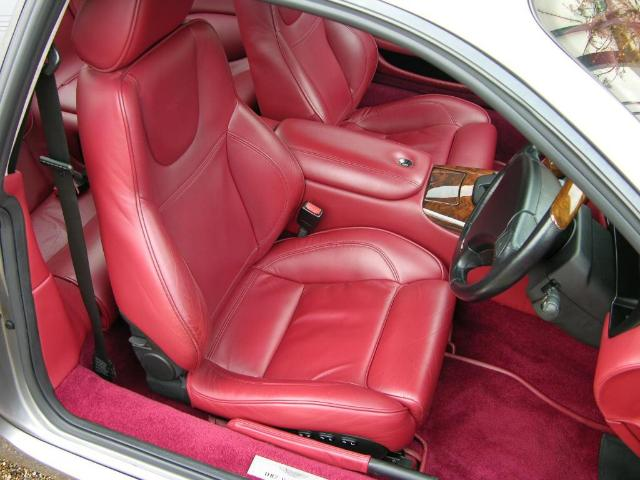Seatbelt: (34, 63, 114, 379)
